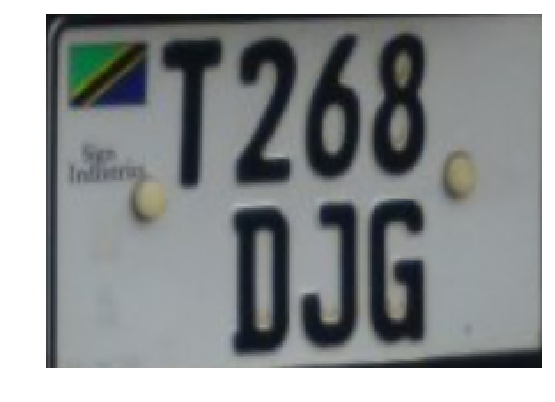T: (157, 32, 229, 199)
